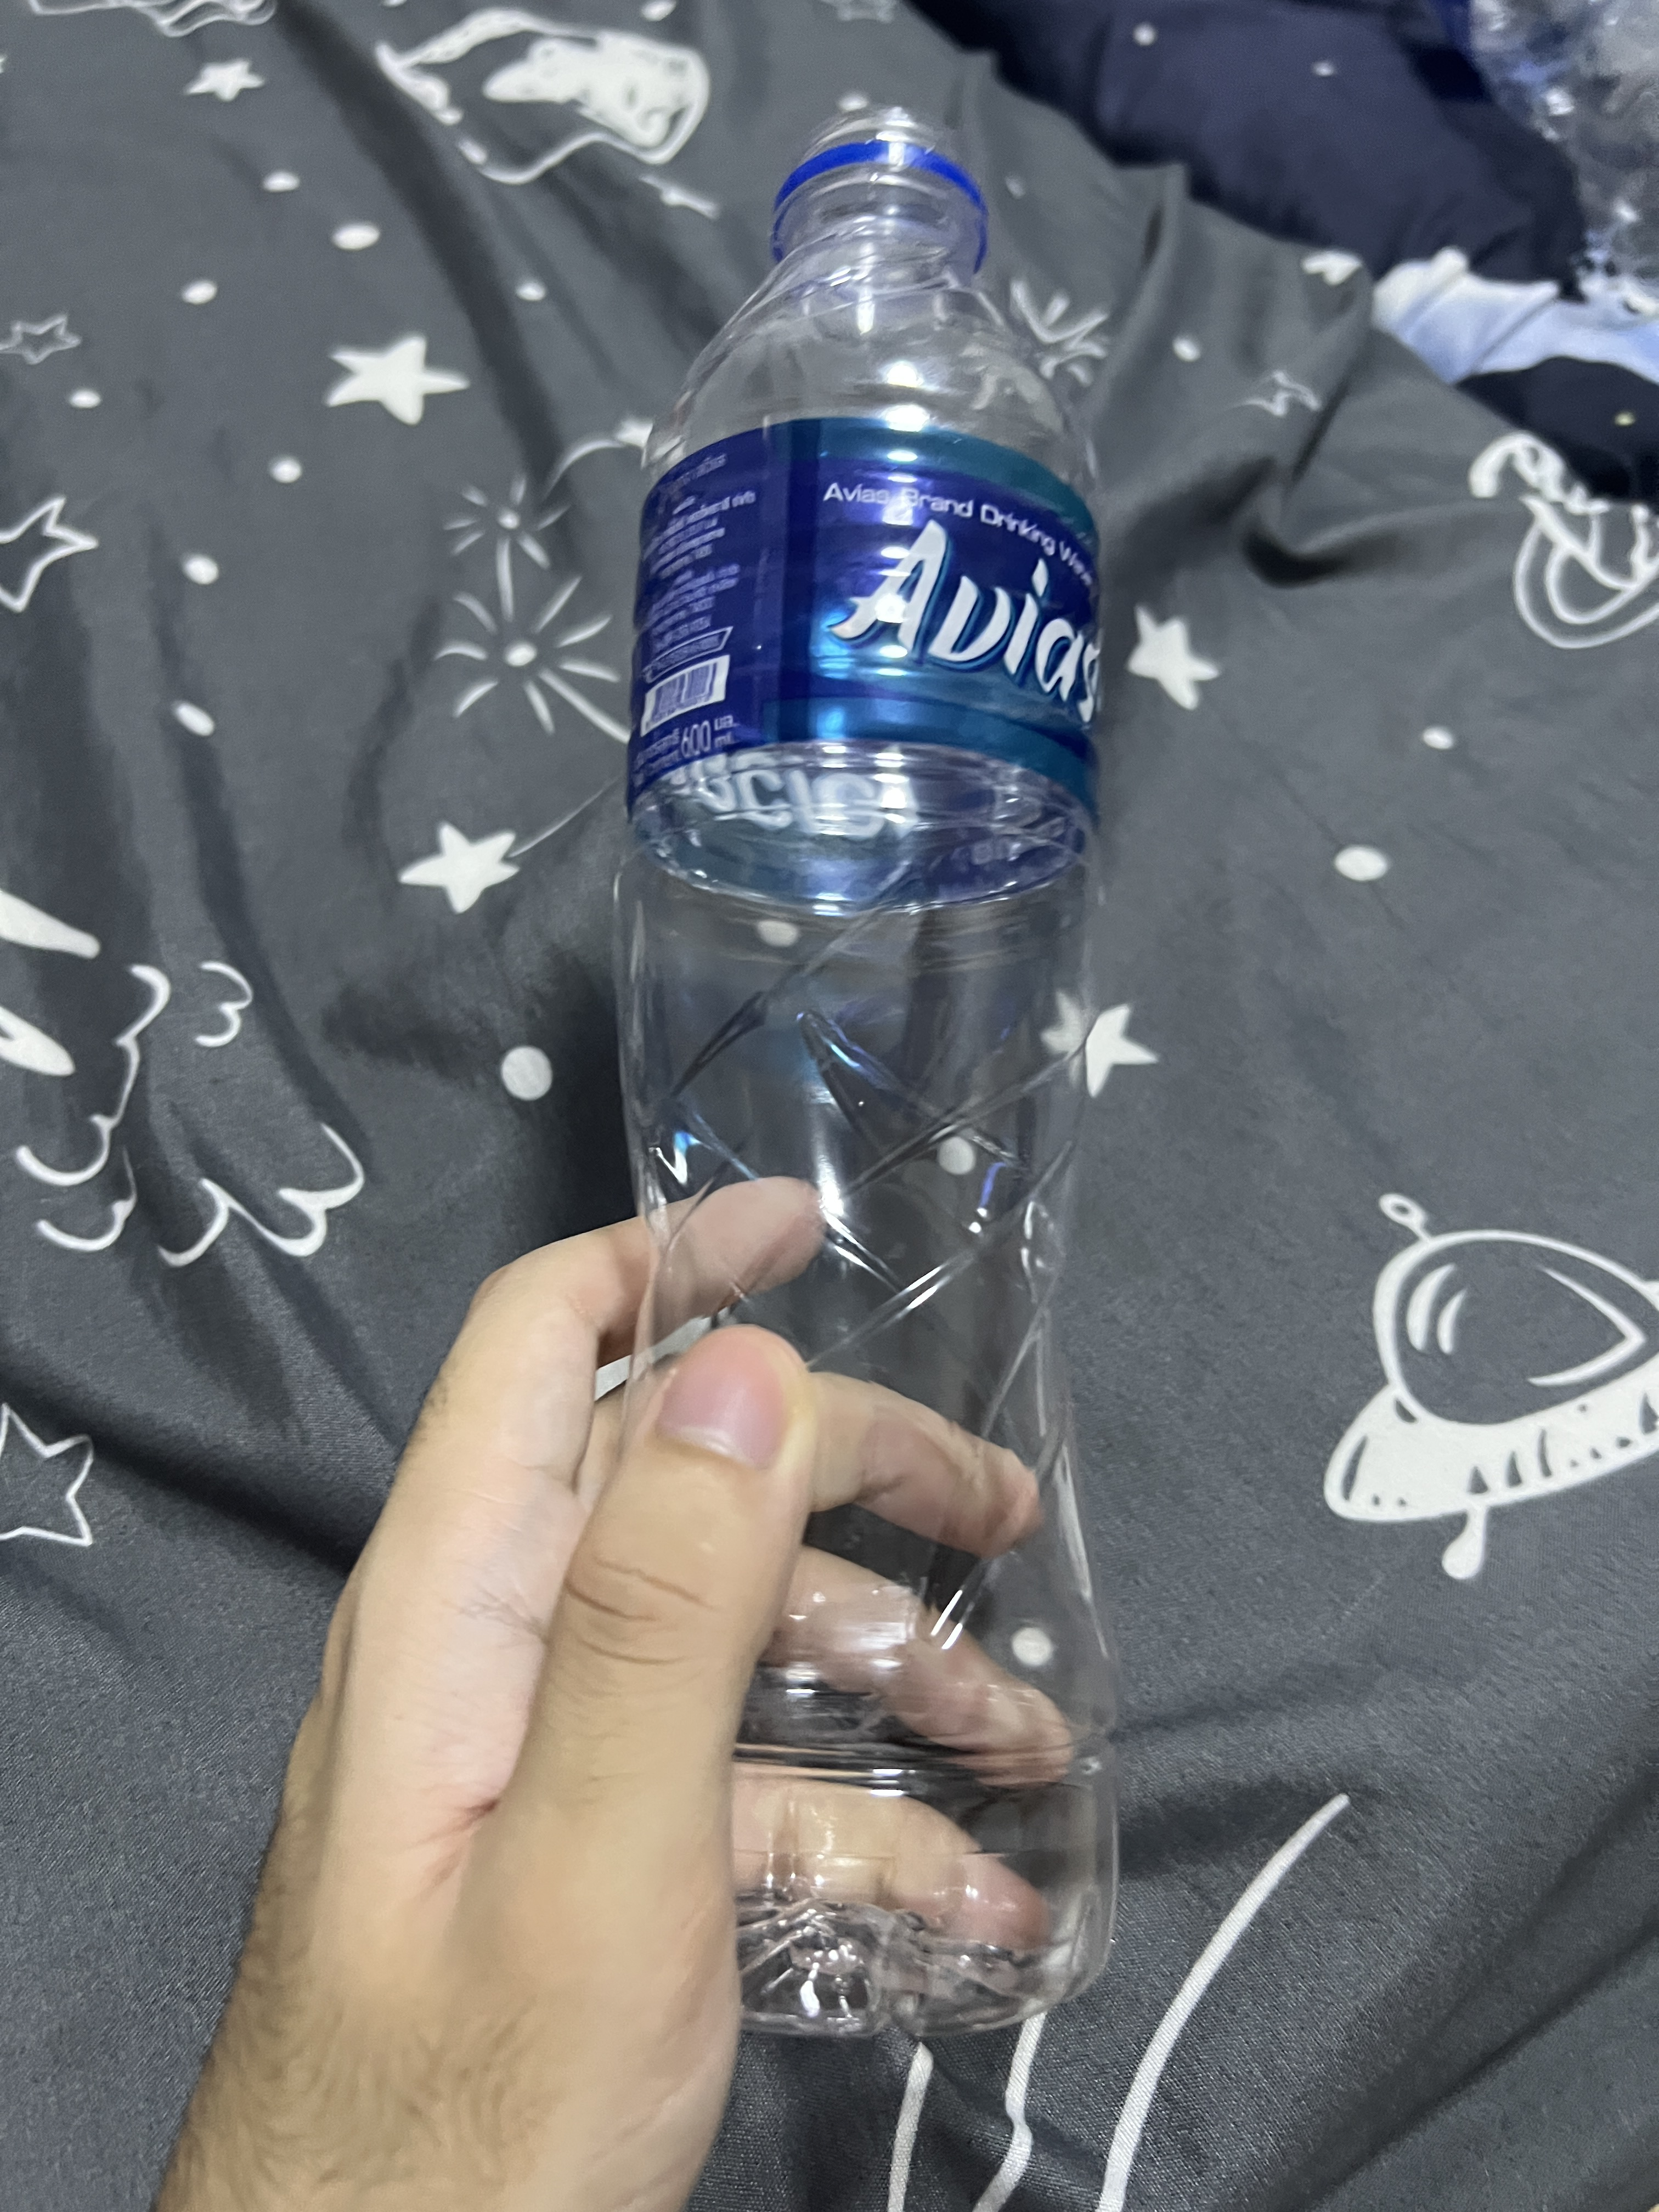plastic_bottle: (598, 87, 1157, 2047)
